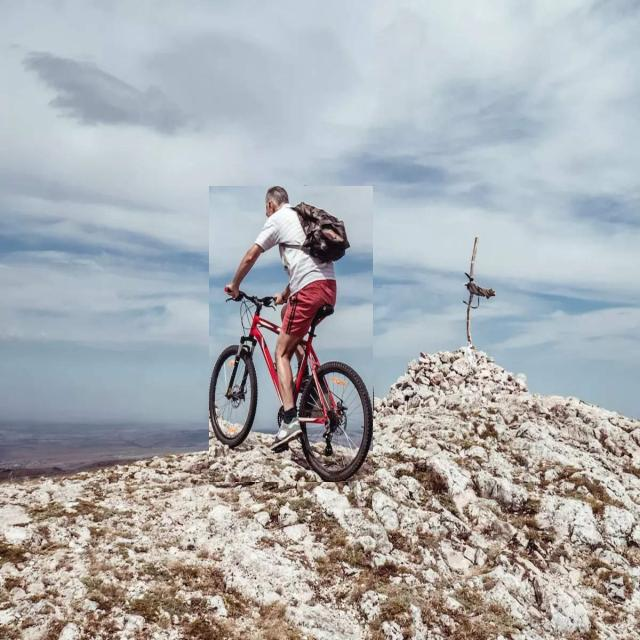bicycle: (210, 186, 373, 482)
